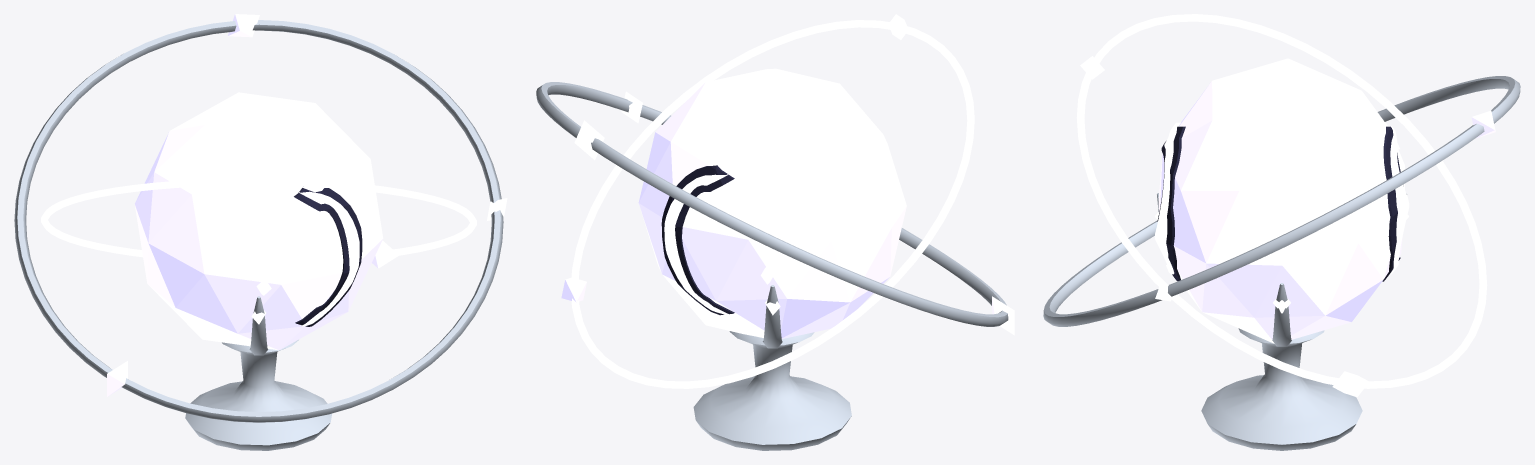
Rendered from luna_orbital.glb.
3 views of the same model, side by side, from view 1: azimuth 30°, elevation 25°; view 2: azimuth 150°, elevation 25°; view 3: azimuth 270°, elevation 25° (orthographic). The views are drawn at different scales.
Parts seen in each view (by area): view 1: luna_orbital; view 2: luna_orbital; view 3: luna_orbital.
Part boxes in pixels (x1=…): luna_orbital: x1=14, y1=14, x2=507, y2=450; luna_orbital: x1=536, y1=14, x2=1014, y2=450; luna_orbital: x1=1043, y1=14, x2=1520, y2=450.
Size of the model in its own units: 0.315 by 0.2359 by 0.2923.
